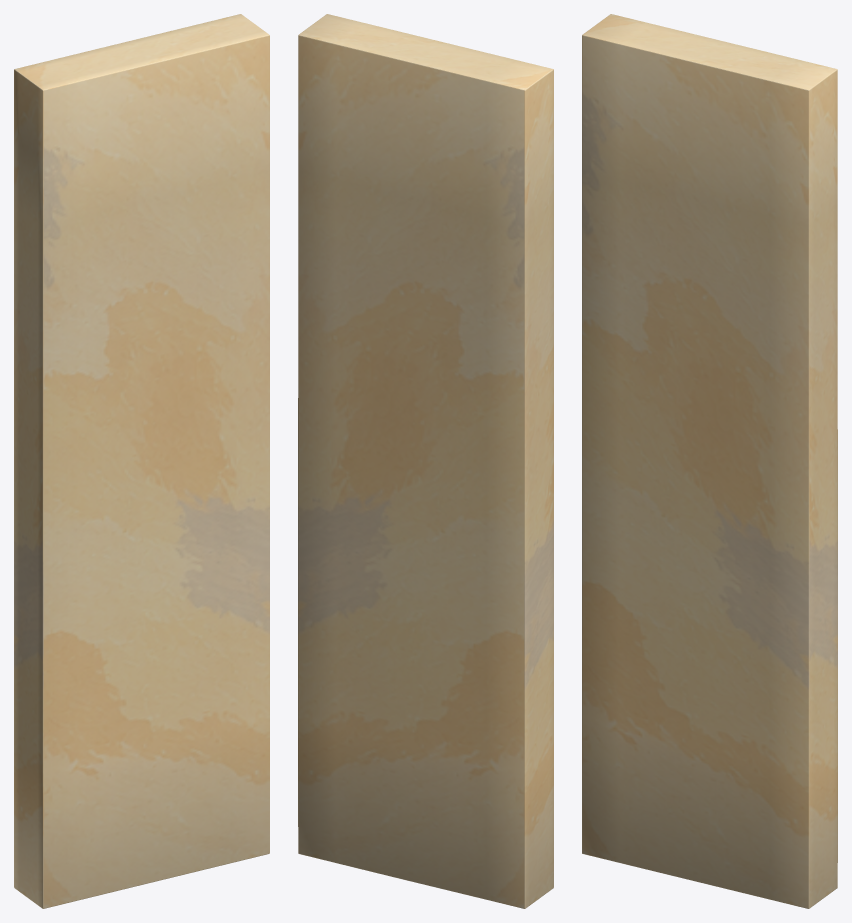
The model's file is CM_C05_Plaster_1.fbx.
The picture shows the model from 3 angles, left to right: view 1: azimuth 30°, elevation 25°; view 2: azimuth 150°, elevation 25°; view 3: azimuth 330°, elevation 25°; orthographic projection.
Visible parts, largest first — view 1: CM_C05_Plaster_1; view 2: CM_C05_Plaster_1; view 3: CM_C05_Plaster_1.
Boxes of the visible parts, x1,y1,x2,y2 form: CM_C05_Plaster_1: (14,14,269,908); CM_C05_Plaster_1: (298,14,553,908); CM_C05_Plaster_1: (582,14,837,908).
Size of the model in its own units: 0.9 by 3.1 by 0.2056.
